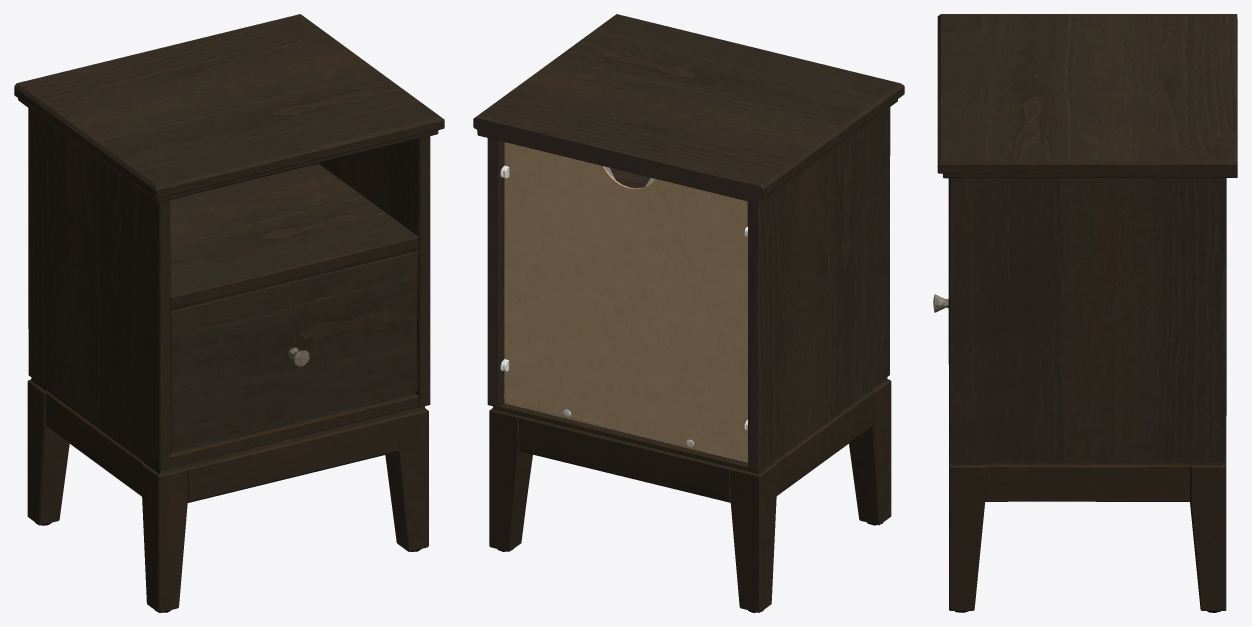
3 views of the same model, side by side, from view 1: azimuth 30°, elevation 25°; view 2: azimuth 150°, elevation 25°; view 3: azimuth 270°, elevation 25° (orthographic). The views are drawn at different scales.
Visible parts, largest first — view 1: ProcessedMeshNode; view 2: ProcessedMeshNode; view 3: ProcessedMeshNode.
Part boxes in pixels (bbox=[...]): ProcessedMeshNode: bbox=[14, 14, 444, 612]; ProcessedMeshNode: bbox=[473, 14, 904, 612]; ProcessedMeshNode: bbox=[933, 14, 1237, 612].
Size of the model in its own units: 0.4704 by 0.6752 by 0.4063.
1 material, 1 textured.
